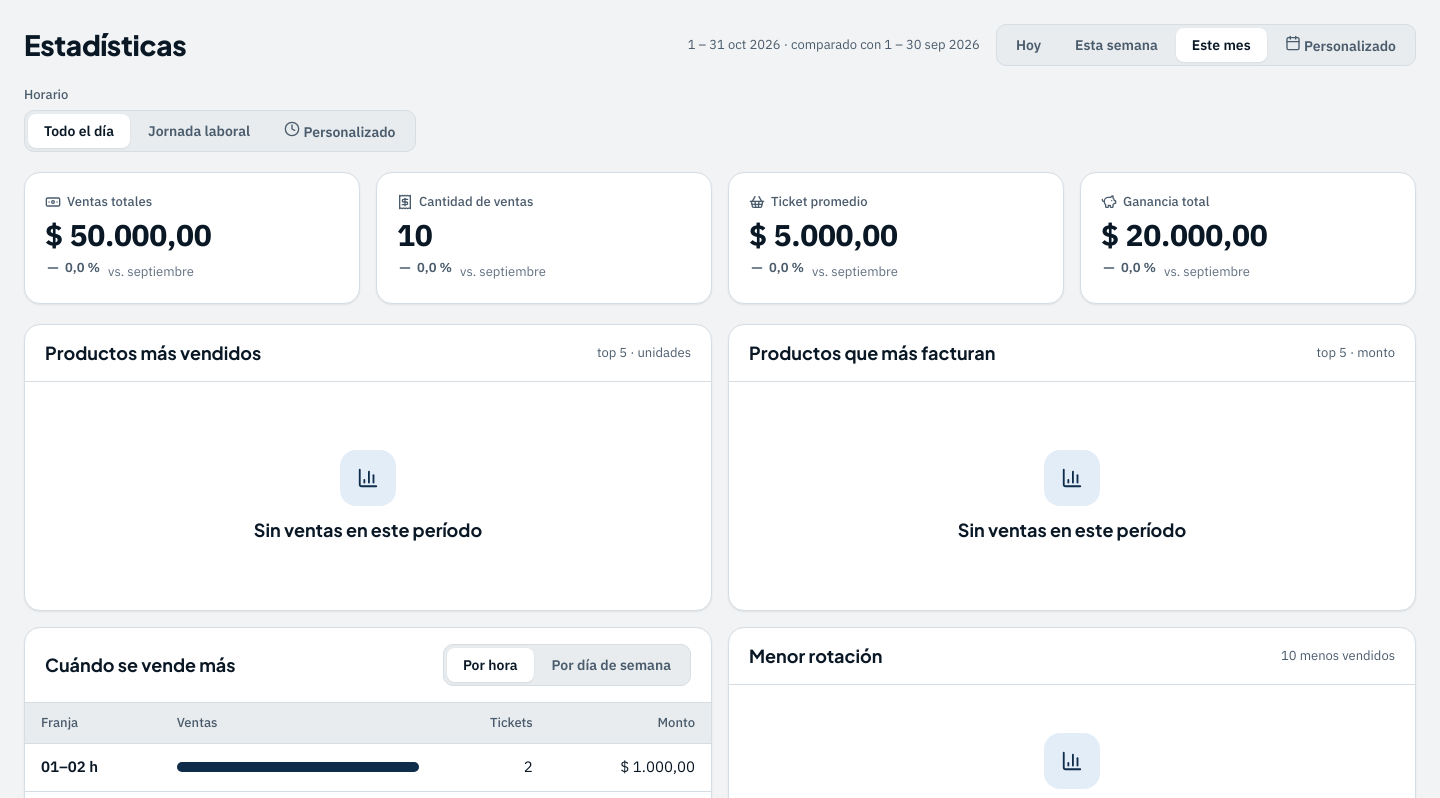
Scenario: Stats — filtro horario: día comercial en curso › 11. "Últimos 7 días" a la 01:00 con jornada
This screenshot has width=1440, height=798.
Step 1. Click the tab "Jornada laboral" → point(199, 131), box [132,114,266,148]
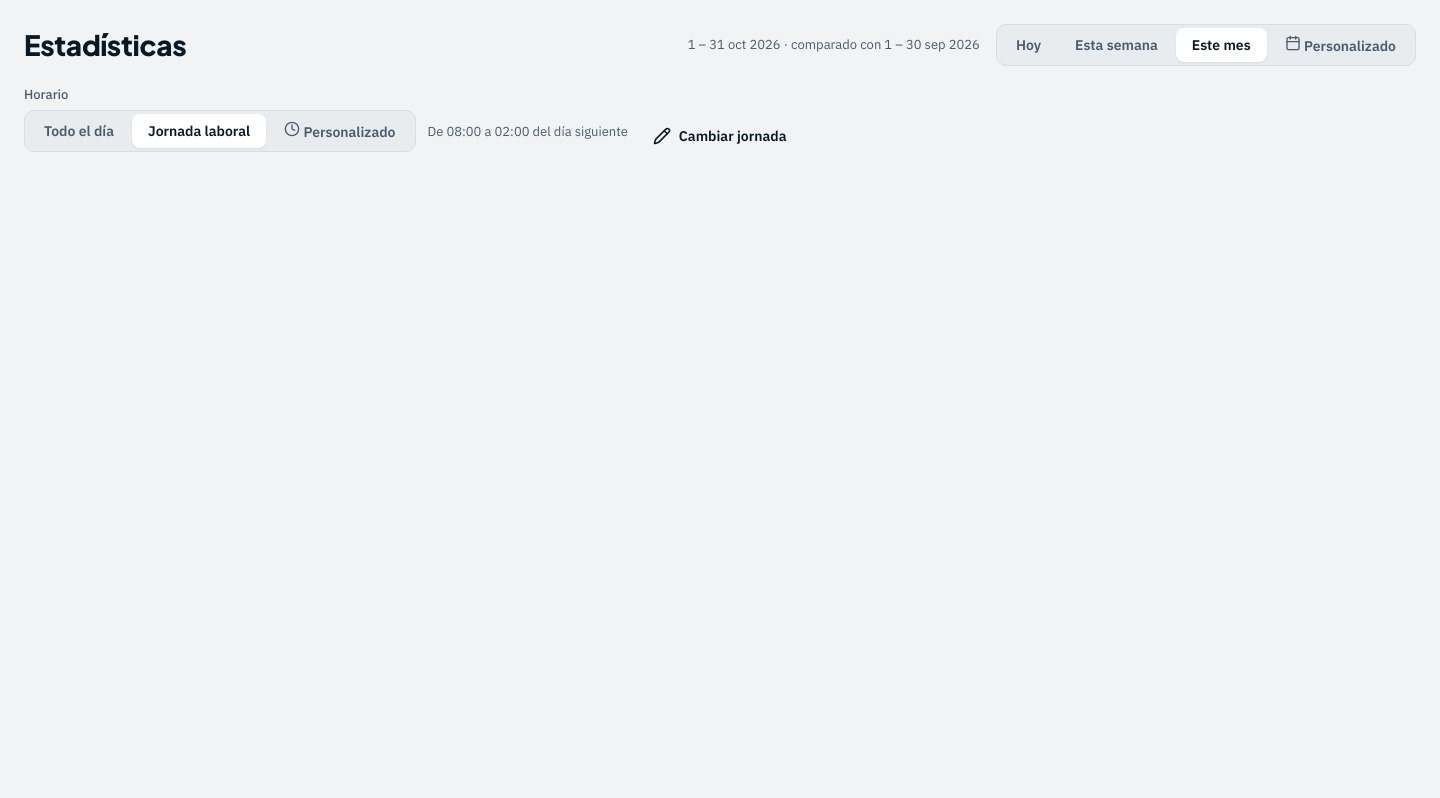
Step 2. Click the tab "Personalizado" in the row of "1 – 30 sep 2026" → point(1340, 45), box [1269,28,1412,62]
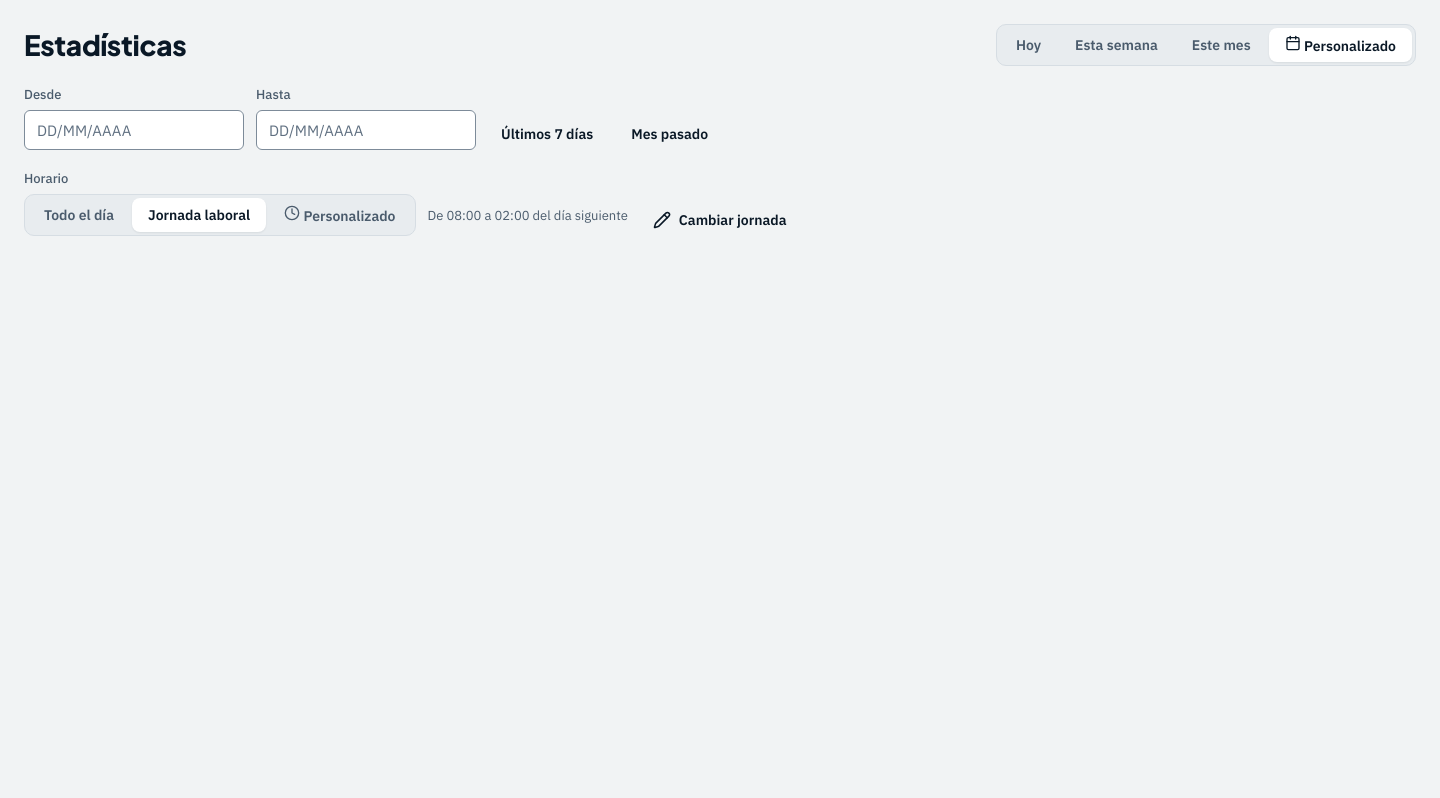
Step 3. Click the button "Últimos 7 días" → point(547, 134), box [488,118,606,150]
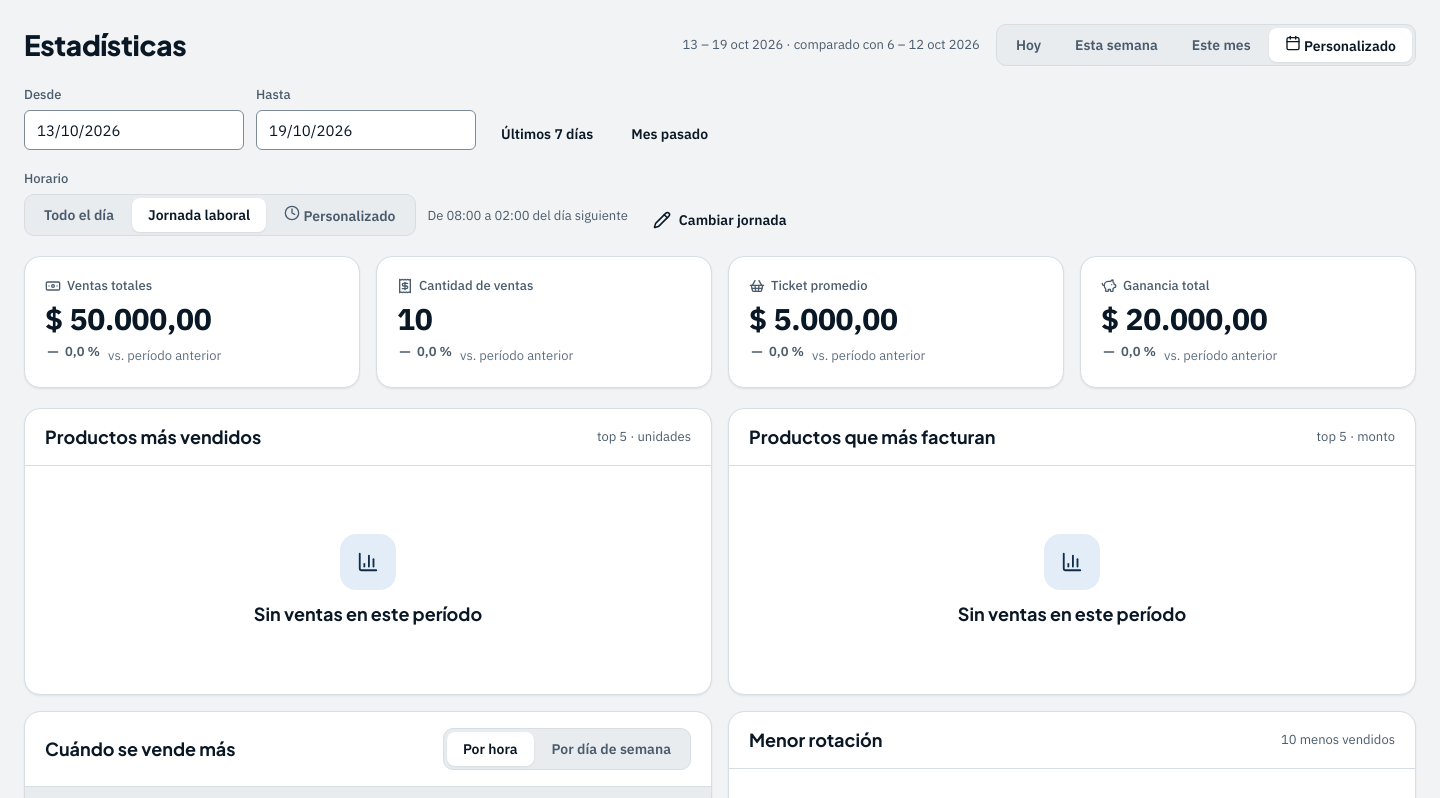
Expected: the field labelled "Desde" holds "13/10/2026", [24,110,244,150]
Expected: the field labelled "Hasta" holds "19/10/2026", [256,110,476,150]
